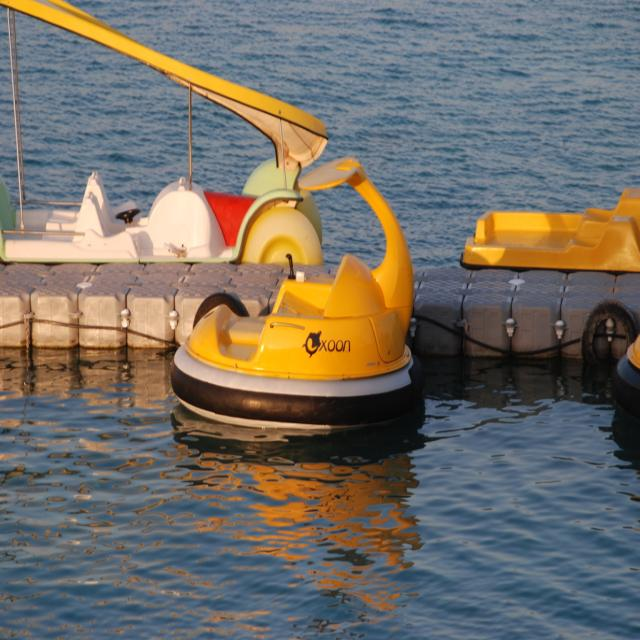Boat: (167, 154, 428, 430)
